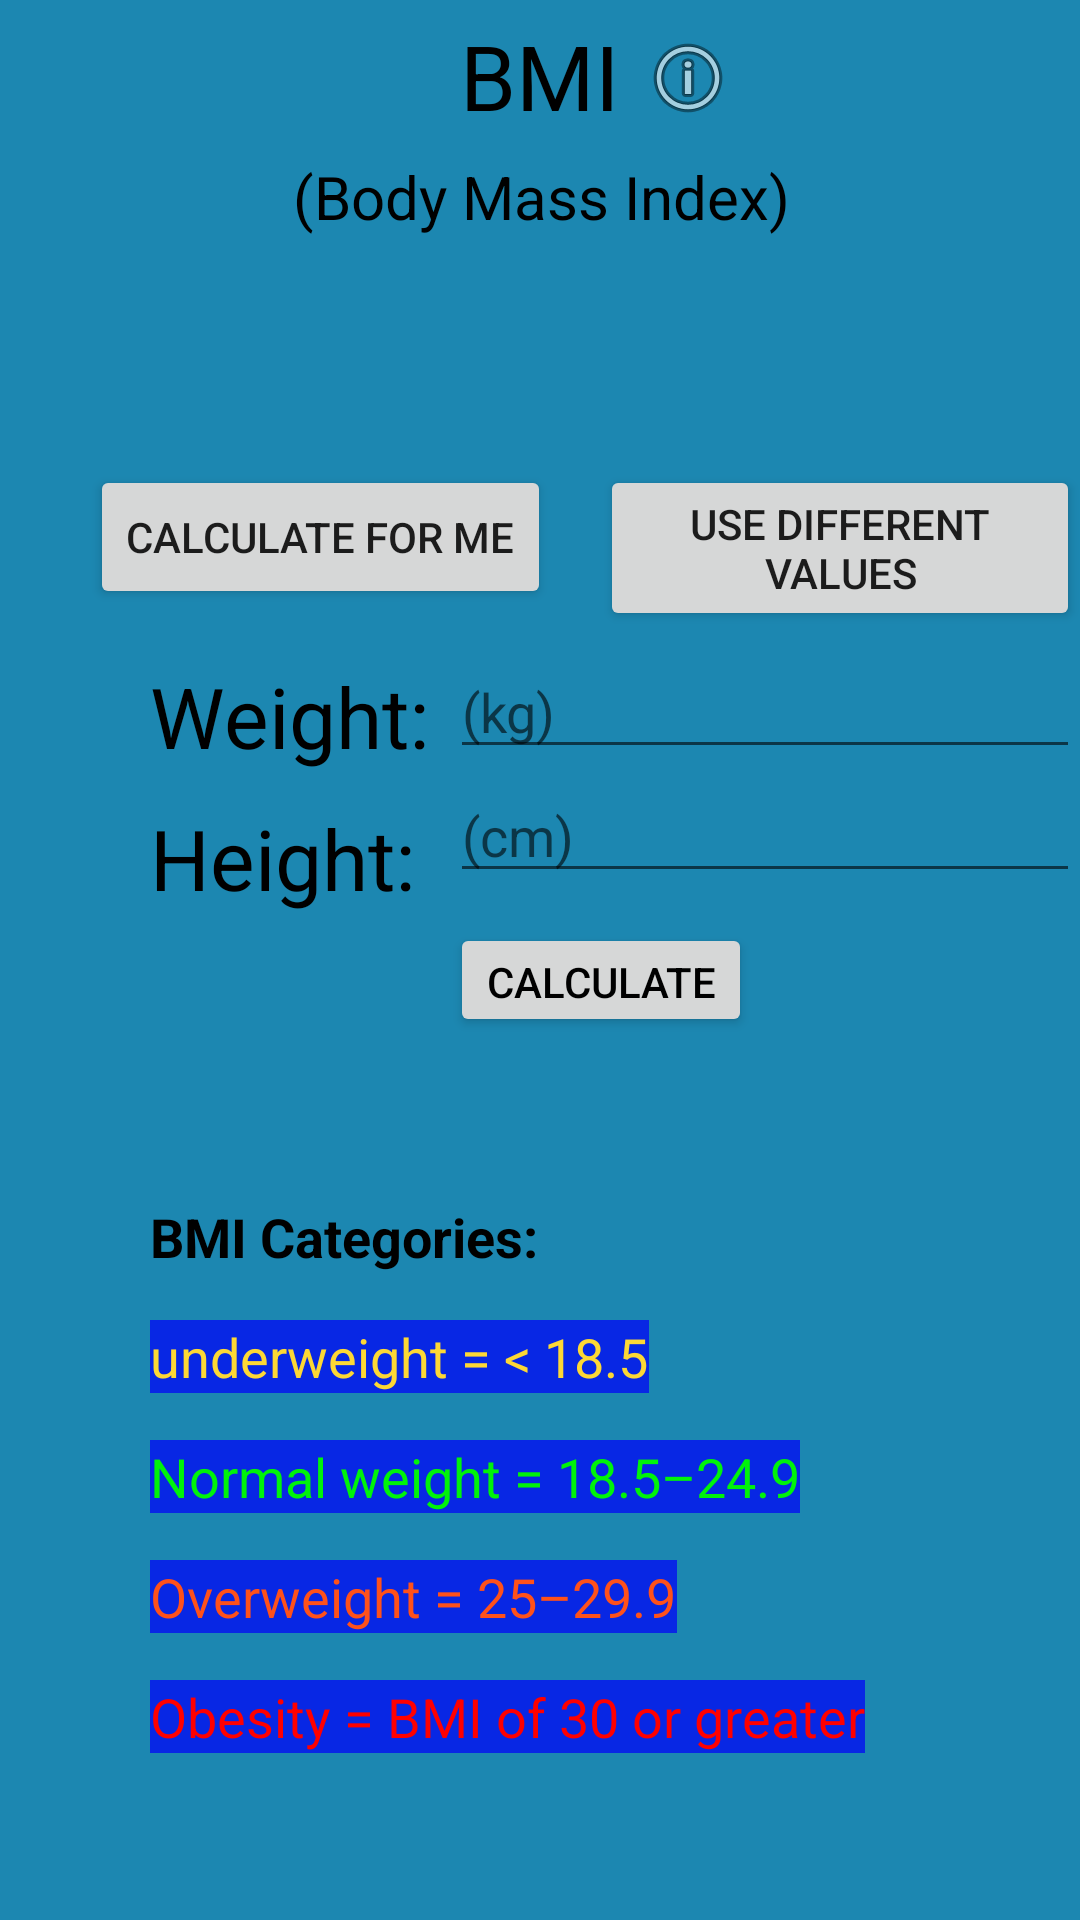

Where to tap for icons on this 1080*1920 app screen, as (x=x, y=y):
info details: (x=688, y=78)
